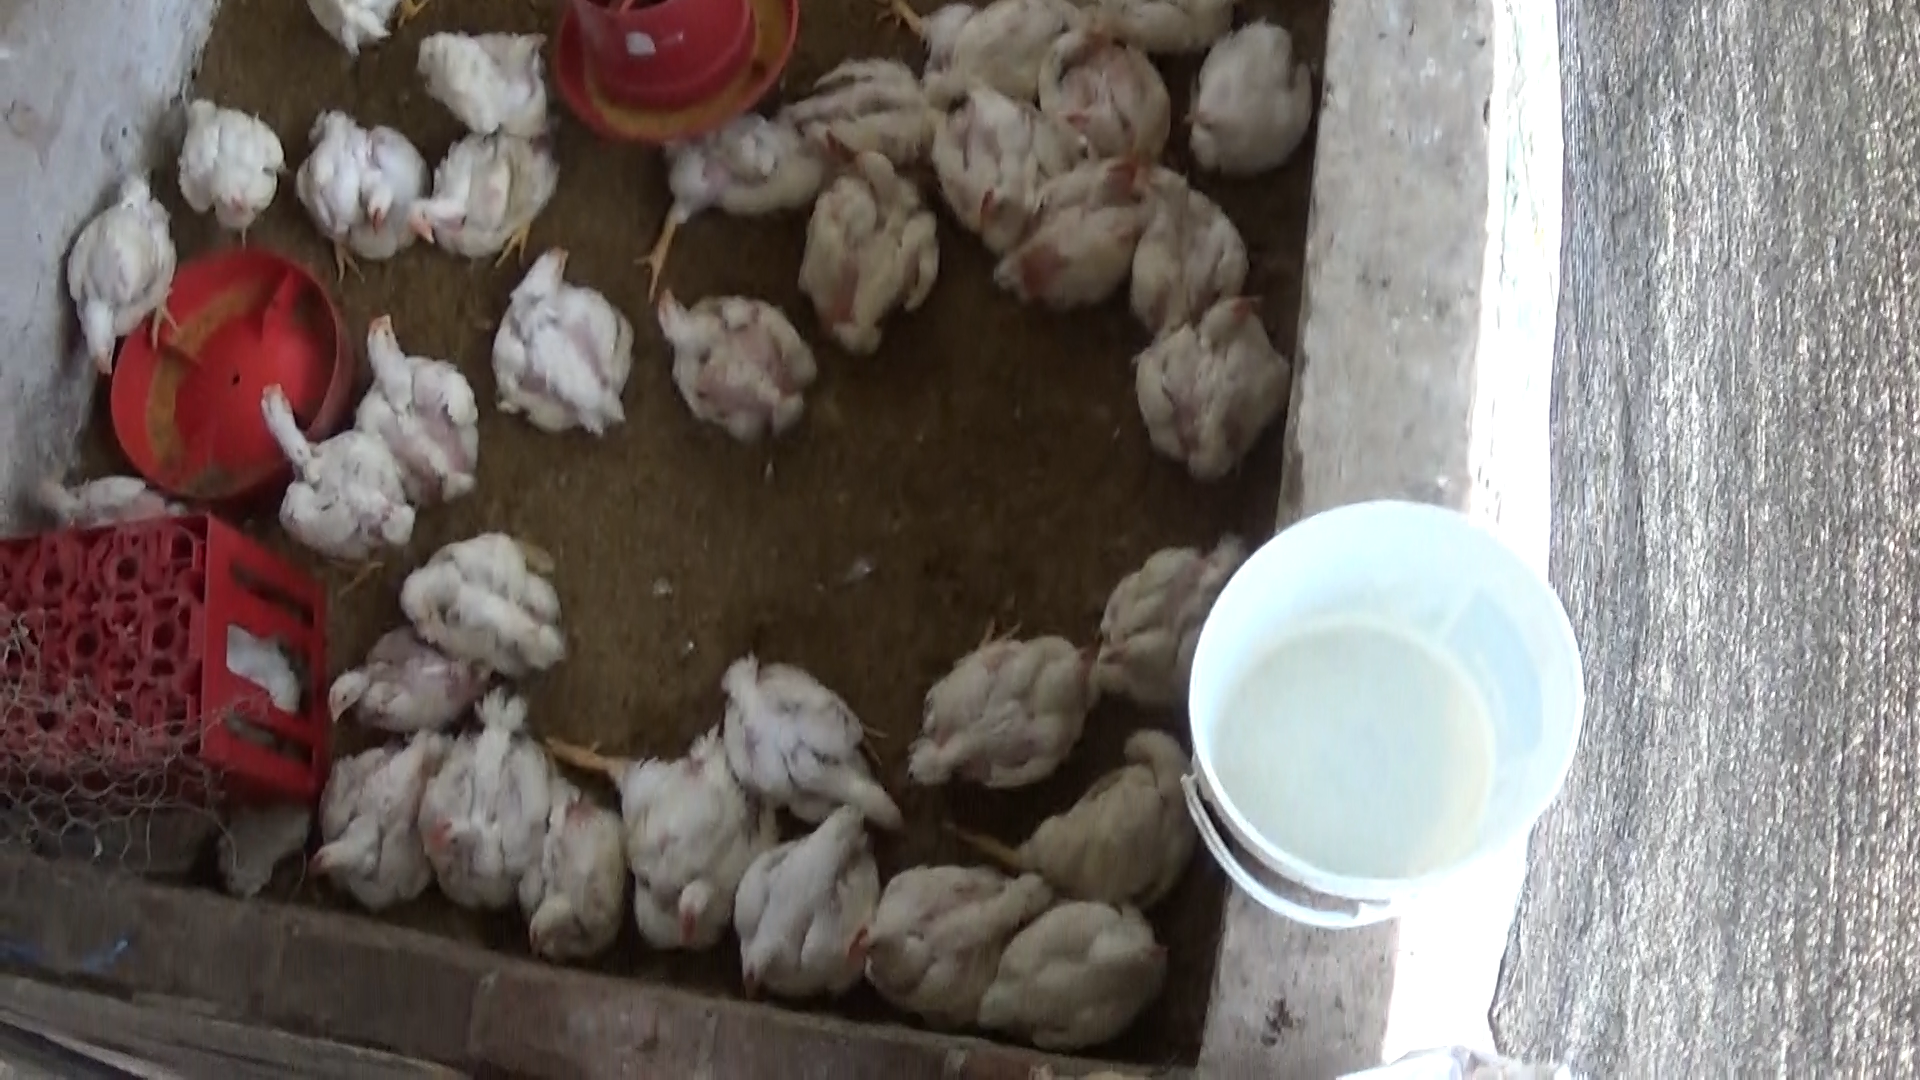Pollos: (555, 728, 775, 948), (713, 649, 922, 839), (902, 608, 1092, 803), (630, 105, 833, 286), (725, 803, 887, 1029), (1127, 284, 1294, 477), (972, 899, 1168, 1063), (240, 378, 413, 563), (843, 862, 1040, 1022), (1076, 524, 1247, 703), (422, 688, 556, 914), (795, 156, 951, 349), (290, 732, 446, 923), (644, 282, 825, 438), (390, 522, 568, 680), (1025, 738, 1197, 898), (345, 307, 485, 504), (290, 96, 433, 286), (69, 157, 186, 377), (498, 248, 628, 438), (1182, 13, 1323, 175), (1133, 152, 1257, 332), (400, 123, 562, 258), (514, 787, 640, 961), (932, 86, 1076, 237), (992, 194, 1166, 318), (870, 0, 1093, 90), (1040, 33, 1175, 179), (170, 88, 287, 241), (406, 28, 549, 142), (311, 640, 483, 735), (785, 54, 963, 144), (32, 468, 186, 533)
